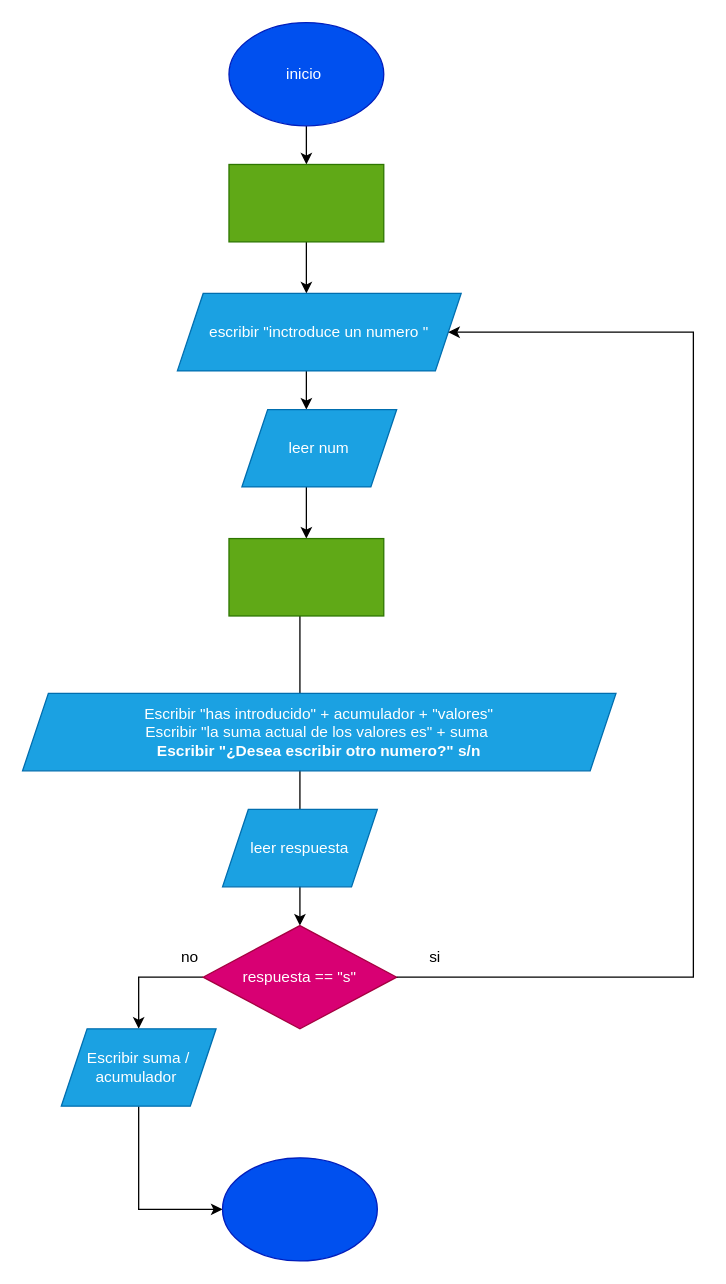
Some shapes in this 726 by 1284 pixel diagram are drawn without their labels. The shapes that lost their labels are listed below. From the top down, each one's centre as x and y in pixels, then its label:
At point (306, 202): "suma = 0 acumulador = 0".
At point (306, 576): "suma = suma+num acumulador = acumulador + 1".
At point (299, 1208): "FIN".
